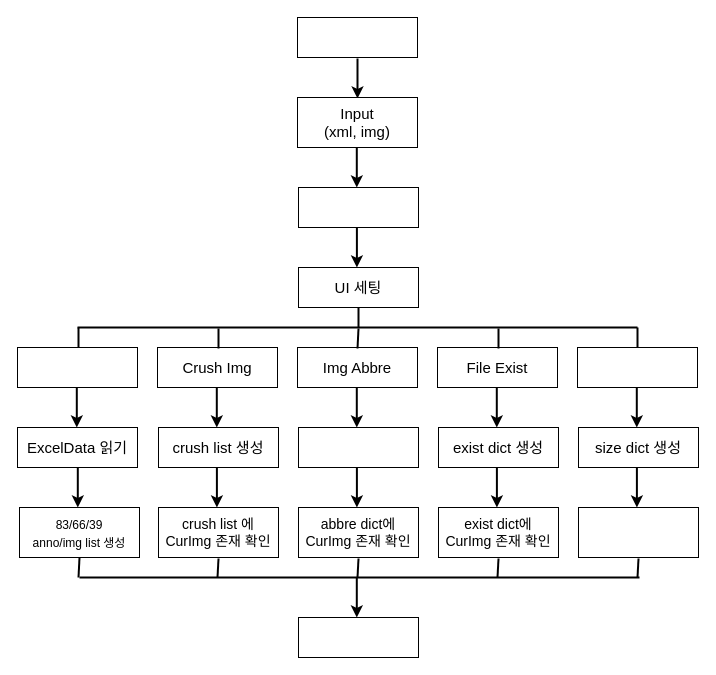
The diagram is 716 pixels wide and 675 high, and some of its shapes have lost their labels. Here are the shapes that lost their labels. From the top down, the centre of each, then its label:
the point at 357,37: Make Class
the point at 358,207: UI 초기화
the point at 77,367: no option
the point at 637,367: Size Filtering
the point at 358,447: abbre dict 생성
the point at 638,532: size filter 이상 정보만 가져오기
the point at 358,637: 파일 저장
